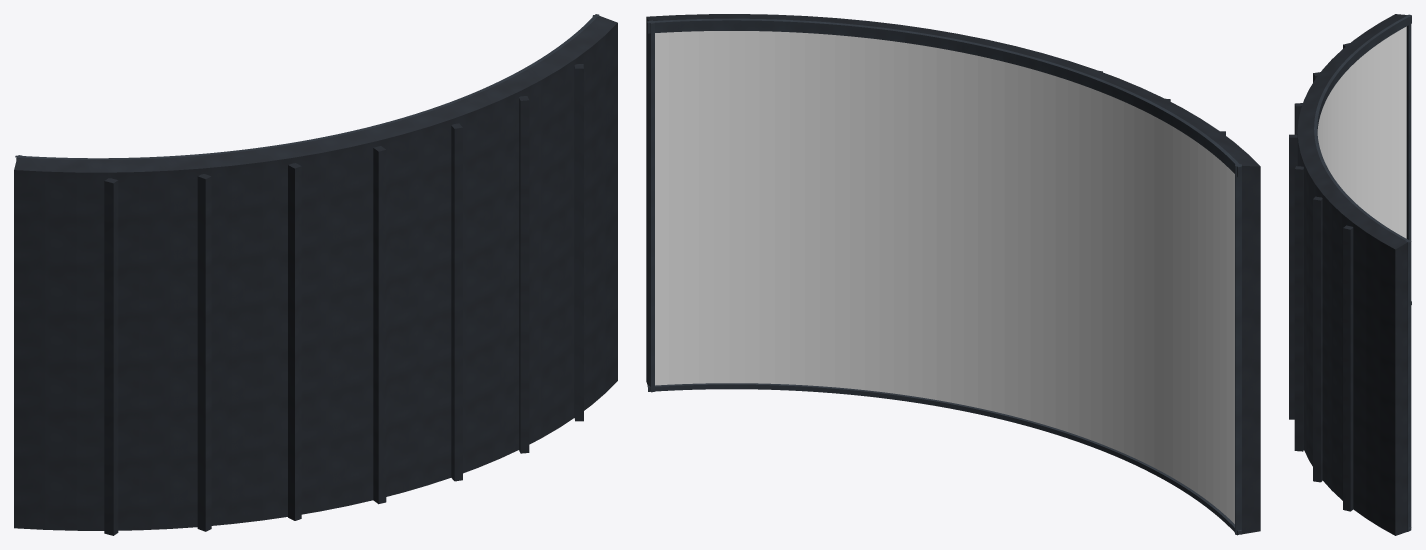
File: curved_screen.glb
3 renders of one model, left to right at view 1: azimuth 30°, elevation 25°; view 2: azimuth 150°, elevation 25°; view 3: azimuth 270°, elevation 25°, orthographic. The views are drawn at different scales.
Parts seen in each view (by area): view 1: Back, Frame; view 2: Screen, Frame, Back; view 3: Back, Screen, Frame.
Boxes of the visible parts, box(x1,y1,x2,y2) form: Back: box(14, 16, 617, 535); Frame: box(15, 14, 599, 159); Screen: box(655, 31, 1234, 523); Frame: box(647, 18, 1241, 535); Back: box(646, 14, 1260, 534); Back: box(1289, 14, 1407, 535); Screen: box(1317, 26, 1406, 238); Frame: box(1314, 14, 1411, 531).
Bounding box in the file's own units: 38.98 × 22.35 × 8.59.
3 materials, 2 textured.
